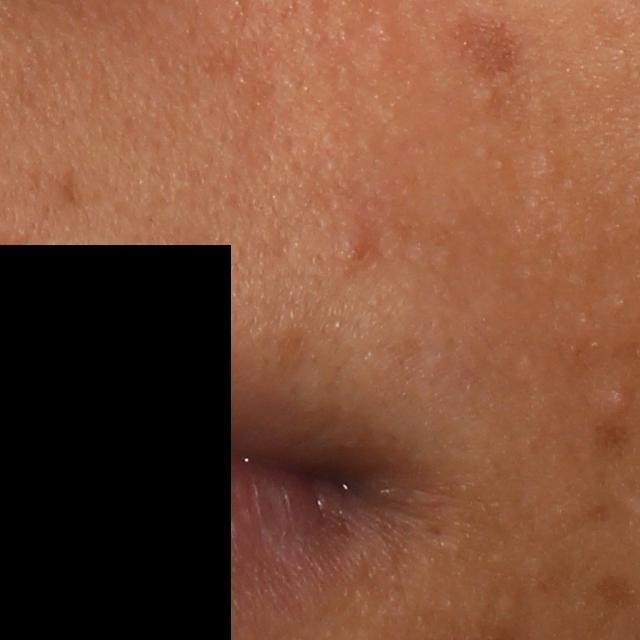comedo: (478, 85, 497, 107)
papule: (336, 229, 374, 264)
